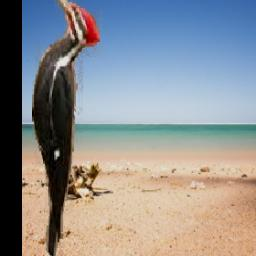Woodpecker: (31, 0, 101, 256)
